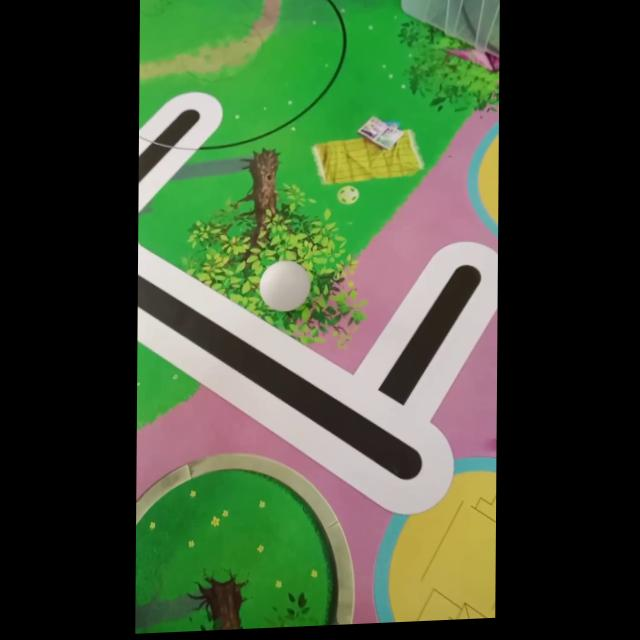white ball: (259, 258, 311, 313)
